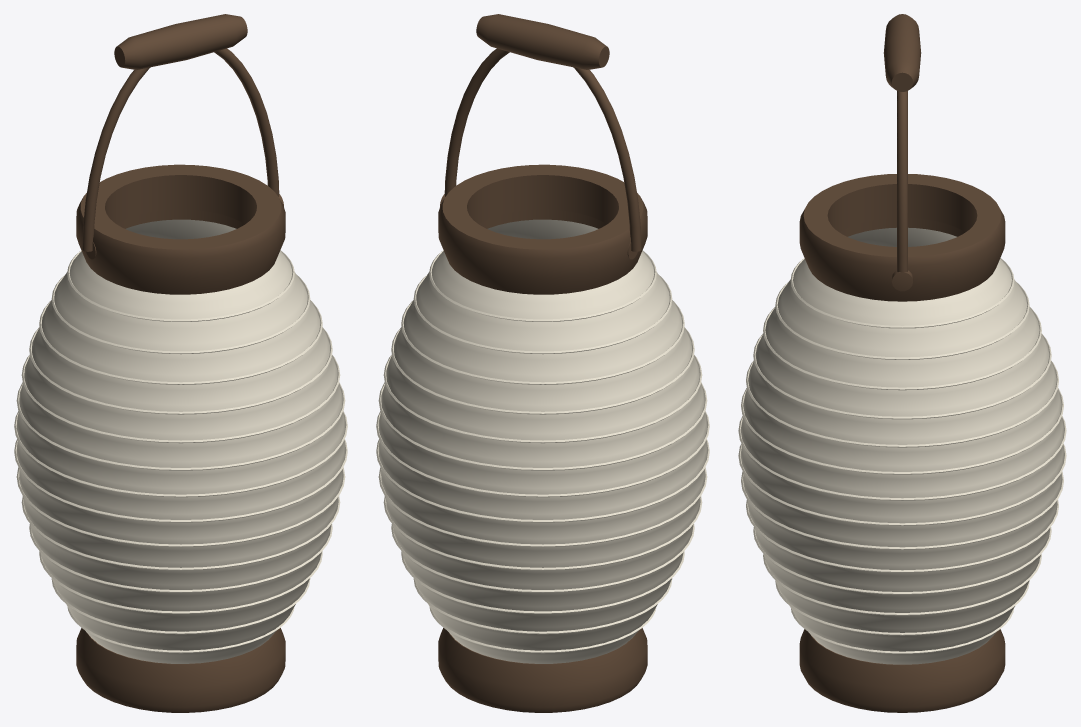
File: HandLantern.fbx
The picture shows the model from 3 angles, left to right: view 1: azimuth 30°, elevation 25°; view 2: azimuth 150°, elevation 25°; view 3: azimuth 270°, elevation 25°; orthographic projection.
Visible parts, largest first — view 1: Lantern; view 2: Lantern; view 3: Lantern.
Part boxes in pixels (x1,y1,x2,y2): Lantern: (14, 14, 347, 712); Lantern: (376, 14, 709, 712); Lantern: (738, 14, 1066, 712).
Size of the model in its own units: 0.2454 by 0.524 by 0.2454.
